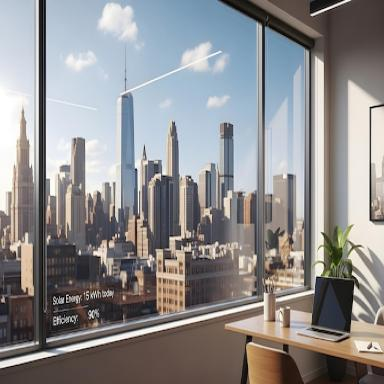glass_panel: (131, 4, 258, 312), (48, 3, 135, 337), (0, 3, 38, 349), (266, 27, 309, 291), (313, 52, 324, 286), (370, 105, 384, 219)
